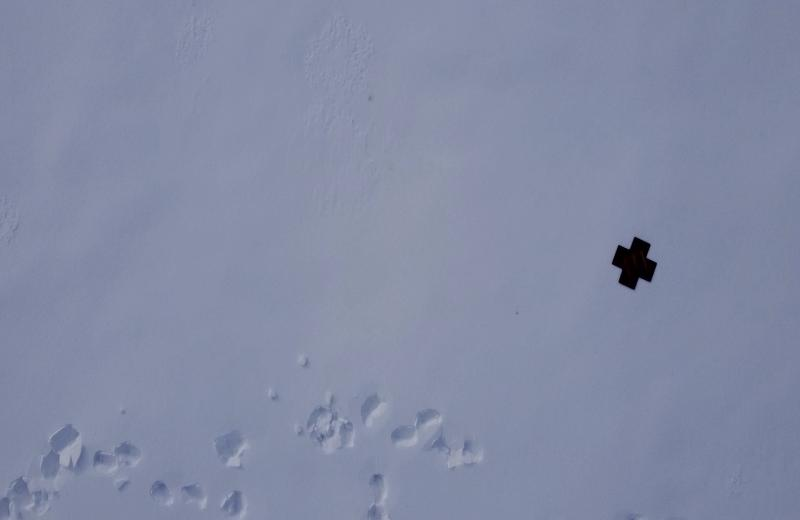Cross: (613, 236, 658, 290)
